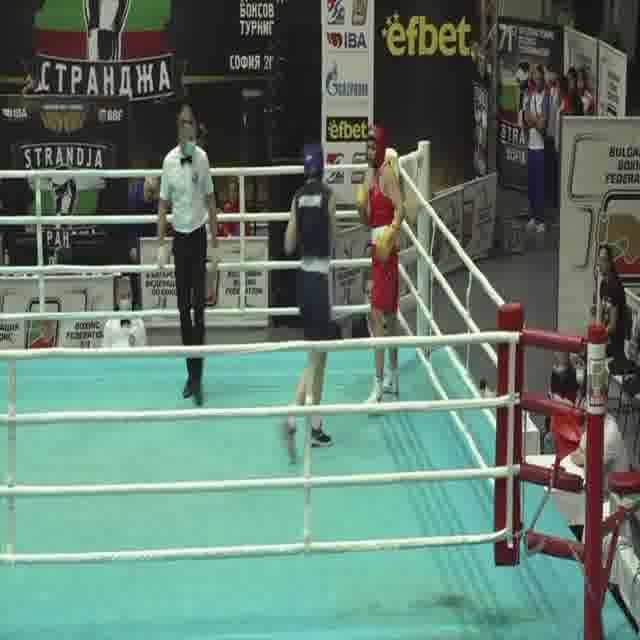blue-player: (278, 144, 337, 466)
red-player: (349, 124, 405, 414)
referee: (154, 99, 222, 410)
